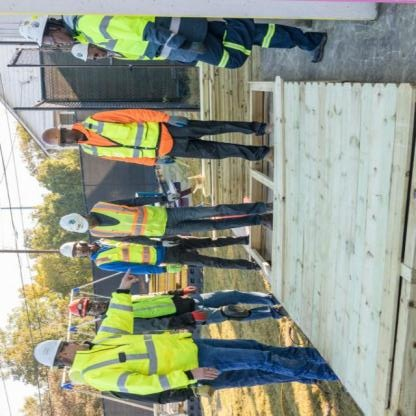red: (64, 286, 96, 322)
vest: (73, 324, 203, 393), (70, 14, 214, 60), (76, 113, 161, 168), (82, 198, 164, 245), (102, 290, 176, 329), (90, 236, 164, 272)
white: (32, 334, 75, 373), (15, 15, 58, 51), (58, 212, 92, 236), (68, 43, 94, 67), (55, 240, 82, 260)
